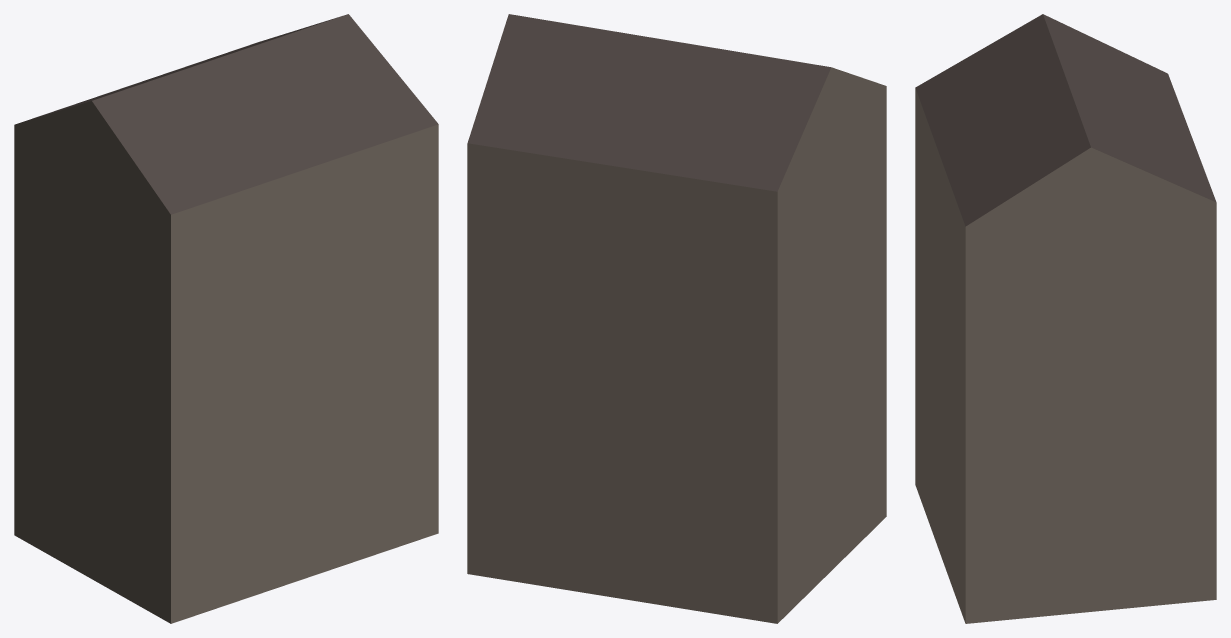
3 renders of one model, left to right at view 1: azimuth 30°, elevation 25°; view 2: azimuth 150°, elevation 25°; view 3: azimuth 270°, elevation 25°, orthographic. The views are drawn at different scales.
Visible parts, largest first — view 1: HP-w1512965860; view 2: HP-w1512965860; view 3: HP-w1512965860.
Boxes of the visible parts, left/top/right/bottom form: HP-w1512965860: left=14, top=14, right=438, bottom=623; HP-w1512965860: left=467, top=14, right=886, bottom=623; HP-w1512965860: left=915, top=14, right=1216, bottom=623.
Bounding box in the file's own units: 4.92 × 7.01 × 4.12.
